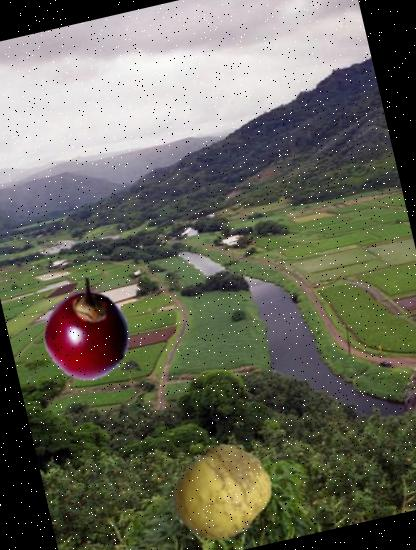Apple: (161, 432, 281, 550)
Tamarillo: (31, 276, 146, 390)
